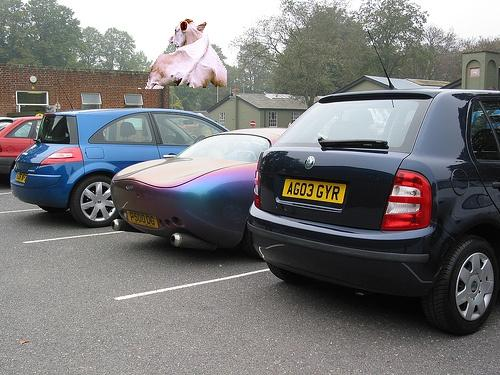tampered: (139, 19, 227, 89)
